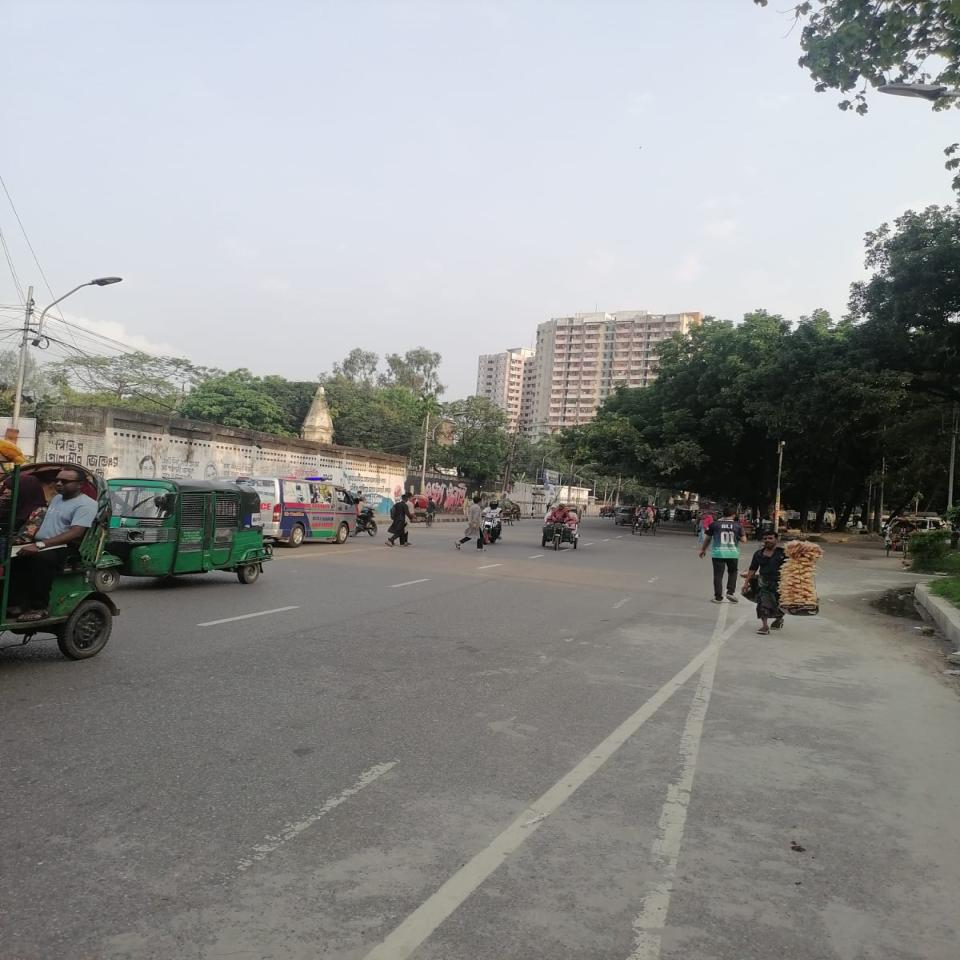person: (454, 496, 484, 550), (385, 494, 413, 547)
